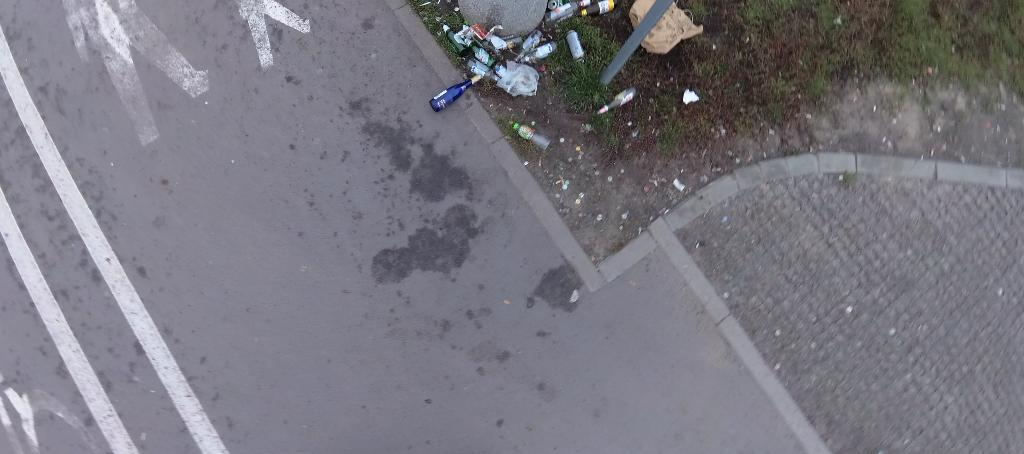garbage: (494, 58, 542, 103), (601, 88, 637, 118), (513, 122, 551, 150), (521, 40, 557, 62), (565, 28, 585, 62), (519, 28, 544, 53), (579, 0, 620, 15), (682, 86, 699, 107)
